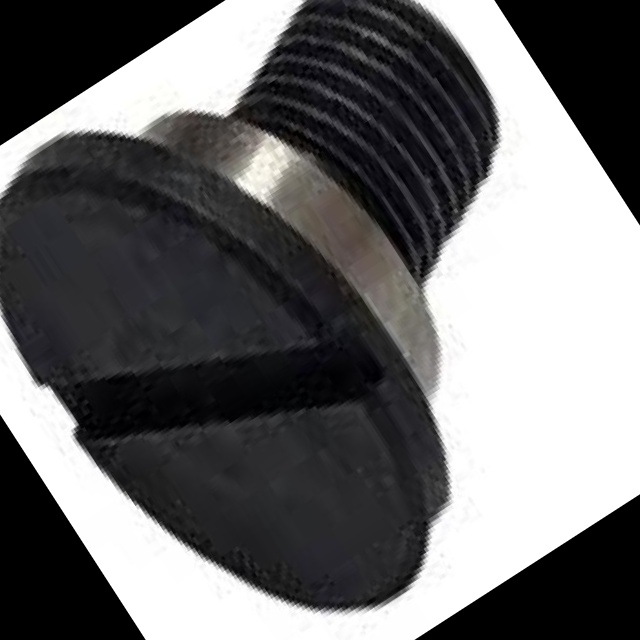duz: (0, 39, 515, 640)
